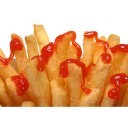frenchfries: (1, 23, 128, 107)
